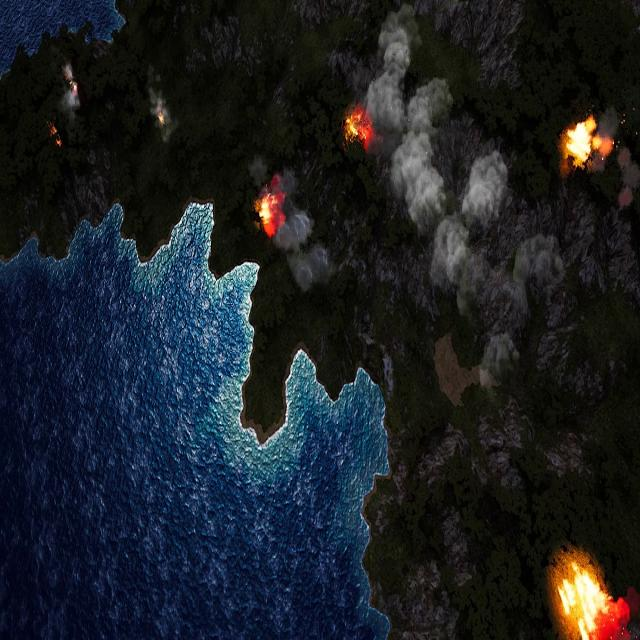fire: (556, 562, 610, 640), (562, 117, 595, 167), (257, 188, 286, 236), (343, 108, 375, 149), (48, 124, 64, 153), (69, 79, 79, 96), (156, 111, 165, 126)
smoke: (348, 0, 562, 378), (252, 162, 334, 296), (595, 95, 640, 211), (53, 64, 84, 123), (148, 78, 170, 138)
